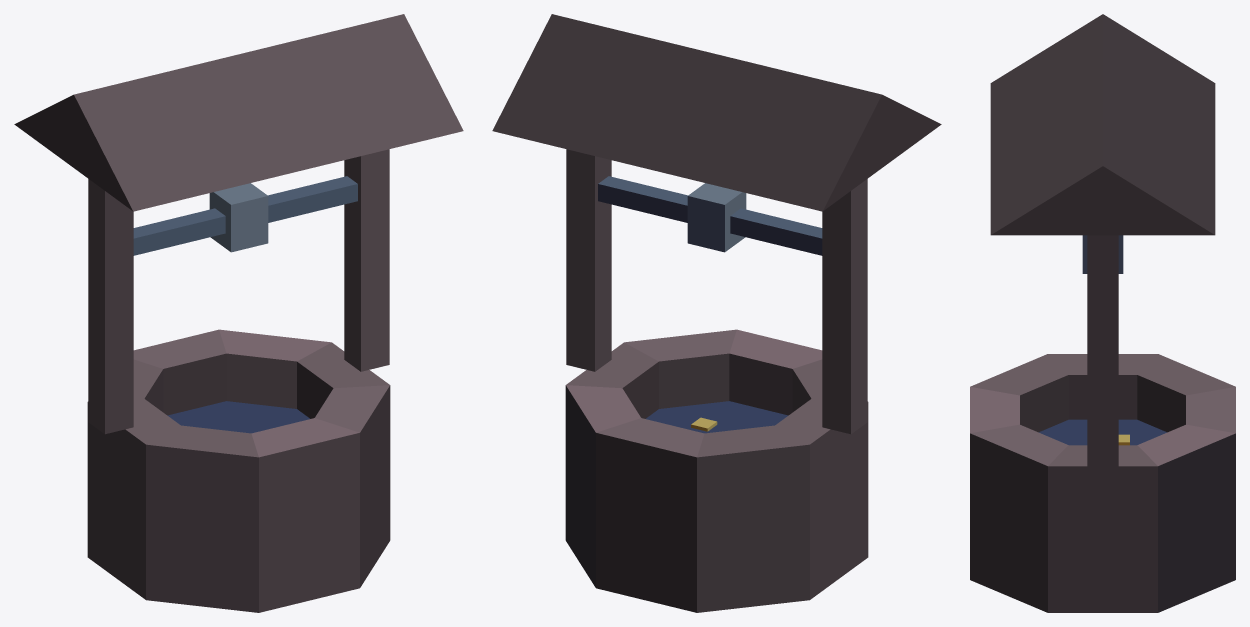
The model's file is brunnen_c_bereit.glb.
3 renders of one model, left to right at view 1: azimuth 30°, elevation 25°; view 2: azimuth 150°, elevation 25°; view 3: azimuth 270°, elevation 25°, orthographic. The views are drawn at different scales.
Visible parts, largest first — view 1: brunnen; view 2: brunnen; view 3: brunnen.
Part boxes in pixels (x1,y1,x2,y2): brunnen: (14, 14, 463, 612); brunnen: (492, 14, 941, 612); brunnen: (970, 14, 1235, 612).
Size of the model in its own units: 1.6 by 2.29 by 1.18.
